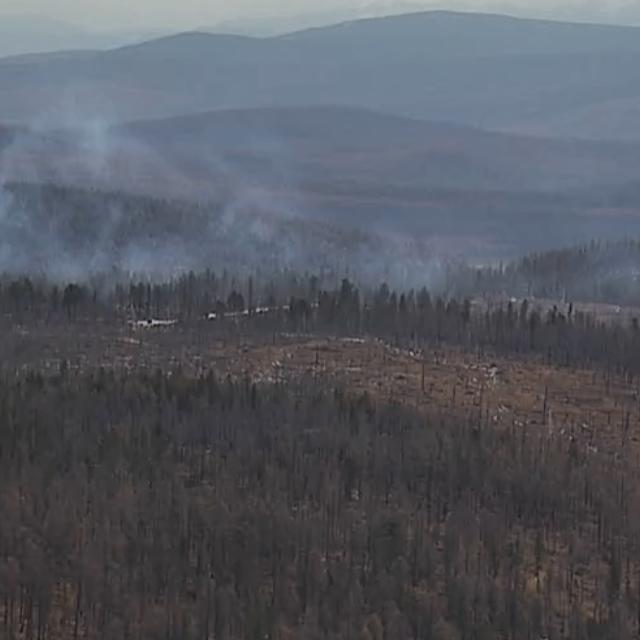Smoke: (0, 103, 640, 326)
